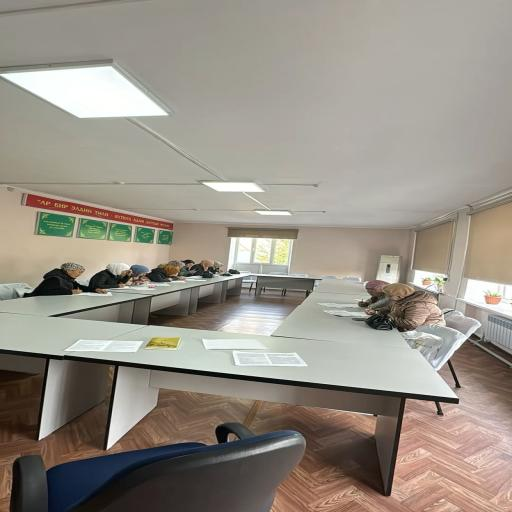bus: (11, 424, 305, 511), (416, 325, 467, 387), (443, 309, 481, 340), (443, 309, 481, 338), (0, 283, 33, 300), (243, 278, 256, 292), (343, 276, 361, 282), (288, 273, 308, 277), (77, 280, 89, 286), (320, 275, 338, 278), (269, 272, 287, 275), (321, 275, 338, 278)
hole: (377, 284, 445, 331), (25, 263, 106, 296), (358, 280, 391, 310), (90, 264, 131, 288), (147, 265, 178, 282), (127, 265, 150, 285), (188, 260, 214, 275), (167, 261, 187, 279), (182, 260, 194, 272), (213, 261, 223, 274)
stroller: (67, 327, 458, 495), (0, 314, 143, 439), (272, 293, 408, 349), (112, 275, 243, 315), (0, 294, 146, 324), (245, 274, 321, 295), (315, 279, 367, 297)
